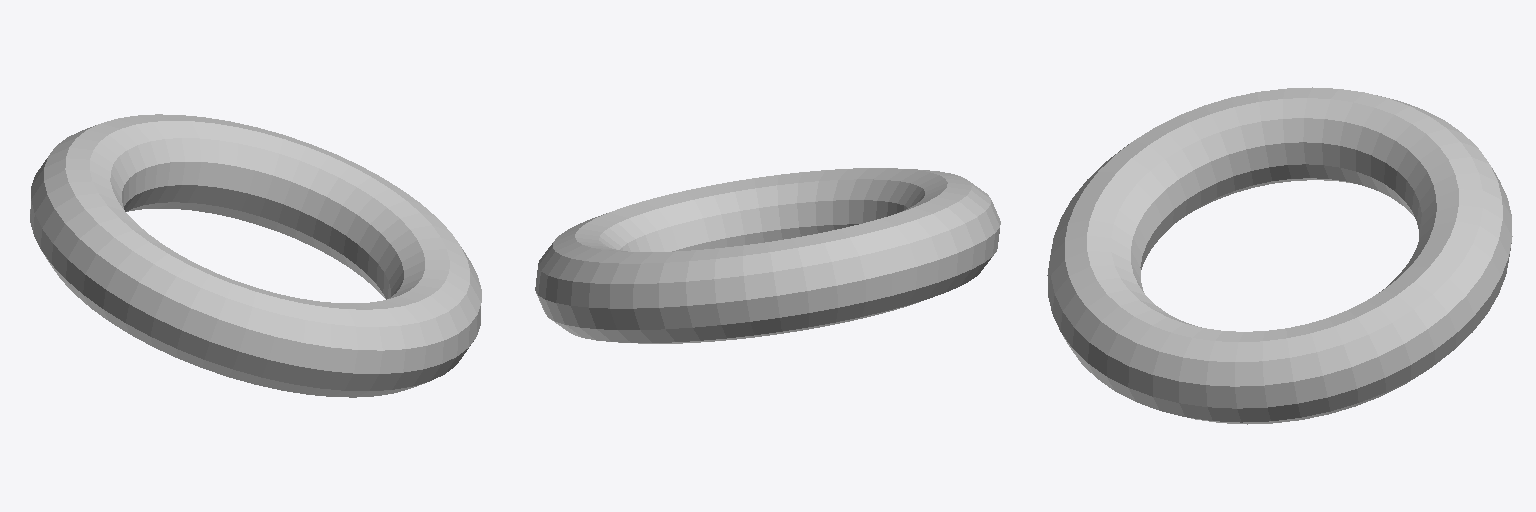
The model's file is rotated_at_origin_torus.obj.
3 views of the same model, side by side, from view 1: azimuth 30°, elevation 25°; view 2: azimuth 150°, elevation 25°; view 3: azimuth 270°, elevation 25° (orthographic).
Parts seen in each view (by area): view 1: Torus; view 2: Torus; view 3: Torus.
Boxes of the visible parts, <box> form: Torus: <box>30,114,481,397</box>; Torus: <box>535,168,1000,343</box>; Torus: <box>1047,87,1512,424</box>.
Size of the model in its own units: 2.42 by 1.07 by 2.47.